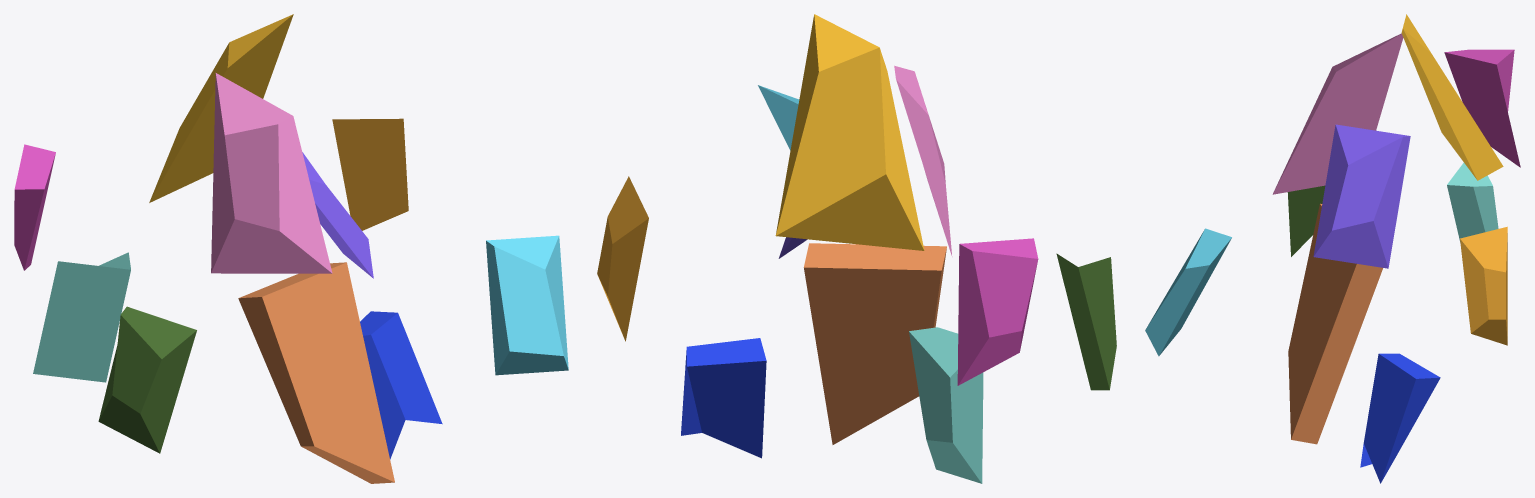
Rendered from icon.glb.
The picture shows the model from 3 angles, left to right: view 1: azimuth 30°, elevation 25°; view 2: azimuth 150°, elevation 25°; view 3: azimuth 270°, elevation 25°; orthographic projection. The views are drawn at different scales.
Parts seen in each view (by area): view 1: Cube.011, Cube.016, Cube.019, Cube.028, Cube.021, Cube.002, Cube.024, Cube.018, Cube.022, Cube.014; view 2: Cube.002, Cube.011, Cube.022, Cube.018, Cube.021, Cube.028, Cube.024, Cube.016, Cube.019; view 3: Cube.011, Cube.014, Cube.016, Cube.018, Cube.022, Cube.002, Cube.024, Cube.019, Cube.021, Cube.028.
Boxes of the visible parts, x1,y1,x2,y2 form: Cube.011: [238, 262, 394, 483]; Cube.016: [211, 73, 332, 273]; Cube.019: [486, 235, 568, 375]; Cube.028: [98, 306, 196, 453]; Cube.021: [33, 252, 130, 382]; Cube.002: [149, 14, 293, 202]; Cube.024: [332, 118, 408, 230]; Cube.018: [360, 311, 442, 459]; Cube.022: [14, 144, 55, 270]; Cube.014: [302, 152, 373, 278]; Cube.002: [775, 14, 924, 250]; Cube.011: [803, 243, 946, 444]; Cube.022: [957, 238, 1038, 385]; Cube.018: [681, 338, 766, 458]; Cube.021: [909, 327, 983, 483]; Cube.028: [1056, 253, 1116, 390]; Cube.024: [597, 176, 648, 341]; Cube.016: [894, 65, 952, 256]; Cube.019: [758, 85, 799, 150]; Cube.011: [1288, 203, 1382, 444]; Cube.014: [1313, 124, 1410, 268]; Cube.016: [1272, 33, 1403, 194]; Cube.018: [1360, 353, 1440, 483]; Cube.022: [1444, 49, 1520, 167]; Cube.002: [1401, 14, 1503, 180]; Cube.024: [1460, 226, 1507, 345]; Cube.019: [1145, 228, 1231, 356]; Cube.021: [1447, 162, 1498, 241]; Cube.028: [1287, 185, 1325, 256].
Bounding box in the file's own units: 0.1759 × 0.1869 × 0.1564.
